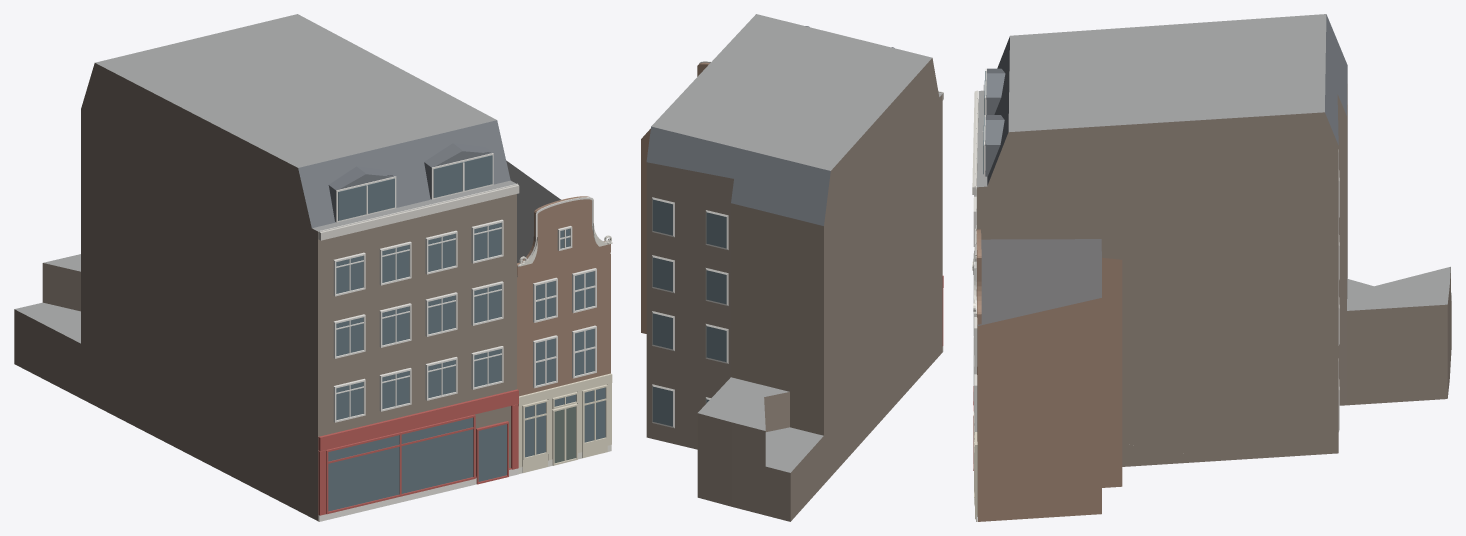
Rendered from chunk-face-achterburgwal-156-160.glb.
The picture shows the model from 3 angles, left to right: view 1: azimuth 30°, elevation 25°; view 2: azimuth 150°, elevation 25°; view 3: azimuth 270°, elevation 25°; orthographic projection. The views are drawn at different scales.
Parts seen in each view (by area): view 1: face-achterburgwal-156-160; view 2: face-achterburgwal-156-160; view 3: face-achterburgwal-156-160.
Part boxes in pixels (x1=…): face-achterburgwal-156-160: x1=14, y1=14, x2=612, y2=521; face-achterburgwal-156-160: x1=641, y1=14, x2=943, y2=521; face-achterburgwal-156-160: x1=972, y1=14, x2=1451, y2=521.
Size of the model in its own units: 17.1 by 15.61 by 19.83.
